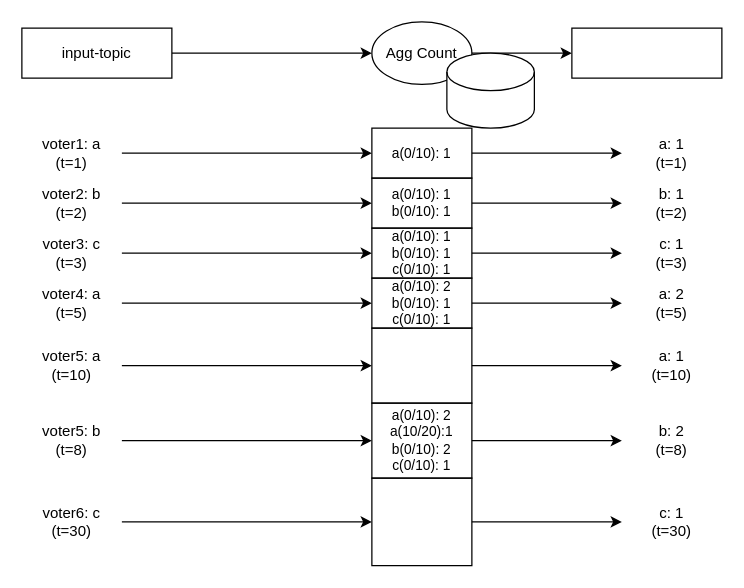
Some shapes in this 744 by 588 pixel diagram are drawn without their labels. Each missing label, with the box of its shape:
a(0/10): 2 a(10/20):1 b(0/10): 1 c(0/10): 1: (371, 327, 472, 403)
a(0/10): 2 a(10/20):1 b(0/10): 2 c(0/10): 1 c(30/40): 1: (371, 477, 472, 566)
output-topic: (571, 27, 722, 78)
WindowStore: (446, 52, 534, 128)
